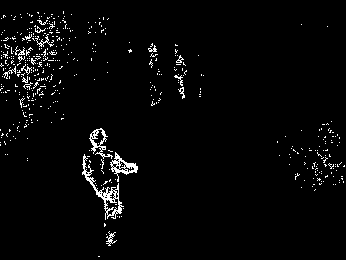person: (82, 125, 138, 247), (173, 54, 188, 100)
